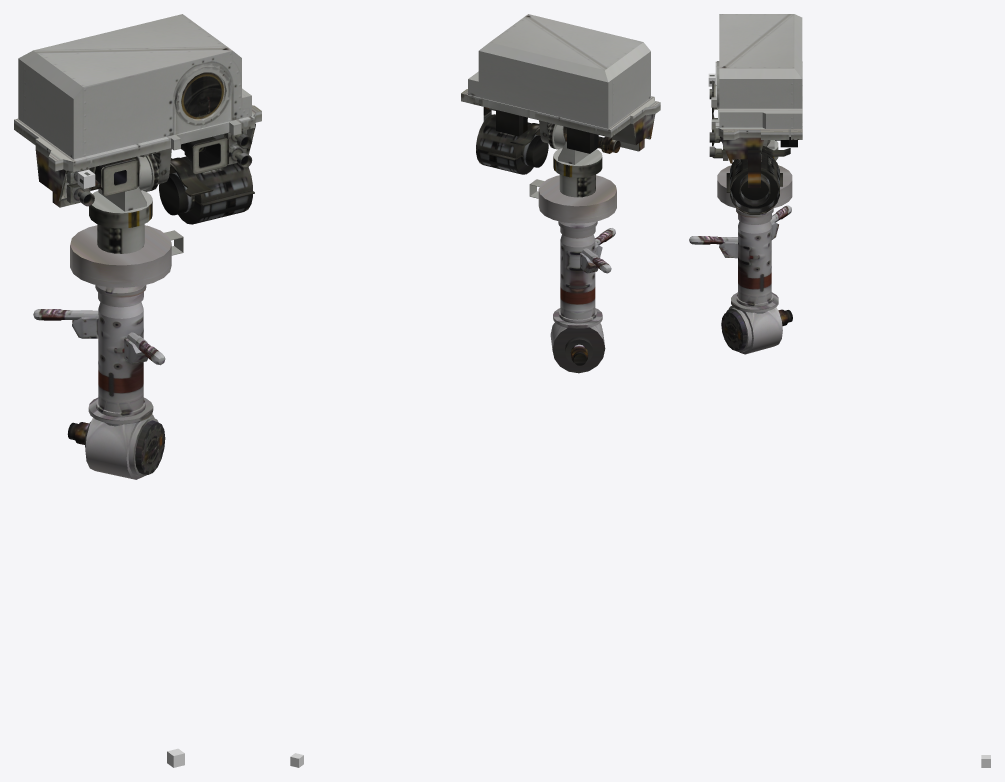
File: curiosity_clean_mast.glb
3 renders of one model, left to right at view 1: azimuth 30°, elevation 25°; view 2: azimuth 150°, elevation 25°; view 3: azimuth 270°, elevation 25°, orthographic. The views are drawn at different scales.
Parts seen in each view (by area): view 1: showme_ChemCam, showme_mast_01.001, showme_mast_02.001, showme_mast_03.001, showme_MastCam, showme_NavCam, showme_mast_01.000; view 2: showme_ChemCam, showme_mast_01.001, showme_mast_02.001, showme_mast_03.001, showme_MastCam, showme_NavCam, showme_mast_01.000; view 3: showme_ChemCam, showme_mast_01.001, showme_mast_03.001, showme_NavCam, showme_mast_02.001, showme_mast_01.000.
Boxes of the visible parts, x1=… form: showme_ChemCam: x1=14, y1=14, x2=261, y2=171; showme_mast_01.001: x1=67, y1=285, x2=165, y2=479; showme_mast_02.001: x1=70, y1=187, x2=183, y2=287; showme_mast_03.001: x1=90, y1=148, x2=254, y2=224; showme_MastCam: x1=94, y1=136, x2=228, y2=196; showme_NavCam: x1=35, y1=124, x2=255, y2=207; showme_mast_01.000: x1=33, y1=309, x2=165, y2=365; showme_ChemCam: x1=461, y1=14, x2=660, y2=137; showme_mast_01.001: x1=550, y1=221, x2=605, y2=373; showme_mast_02.001: x1=529, y1=141, x2=616, y2=223; showme_mast_03.001: x1=476, y1=107, x2=620, y2=174; showme_MastCam: x1=496, y1=110, x2=598, y2=153; showme_NavCam: x1=489, y1=108, x2=655, y2=151; showme_mast_01.000: x1=580, y1=228, x2=615, y2=273; showme_ChemCam: x1=711, y1=14, x2=802, y2=139; showme_mast_01.001: x1=721, y1=208, x2=792, y2=354; showme_mast_03.001: x1=712, y1=140, x2=790, y2=214; showme_NavCam: x1=709, y1=75, x2=763, y2=163; showme_mast_02.001: x1=717, y1=140, x2=792, y2=208; showme_mast_01.000: x1=689, y1=205, x2=791, y2=258.
Bounding box in the file's own units: 0.1632 × 0.4514 × 0.1891.
Materials: 1 (1 with a texture image).
